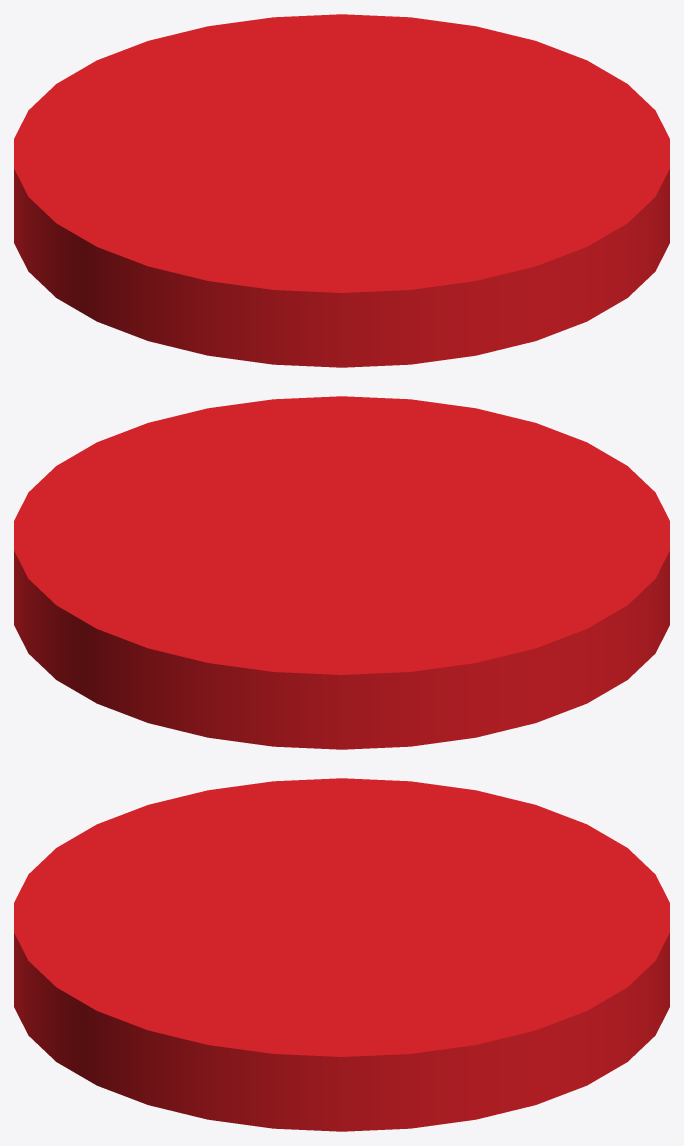
The model's file is pac.fbx.
3 renders of one model, top to bottom at view 1: azimuth 30°, elevation 25°; view 2: azimuth 150°, elevation 25°; view 3: azimuth 270°, elevation 25°, orthographic.
Visible parts, largest first — view 1: pCylinder1; view 2: pCylinder1; view 3: pCylinder1.
Part boxes in pixels (bbox=[...]): pCylinder1: bbox=[14, 14, 669, 367]; pCylinder1: bbox=[14, 396, 669, 749]; pCylinder1: bbox=[14, 778, 669, 1131].
Size of the model in its own units: 4 by 0.5 by 3.98.
1 material, 1 textured.
